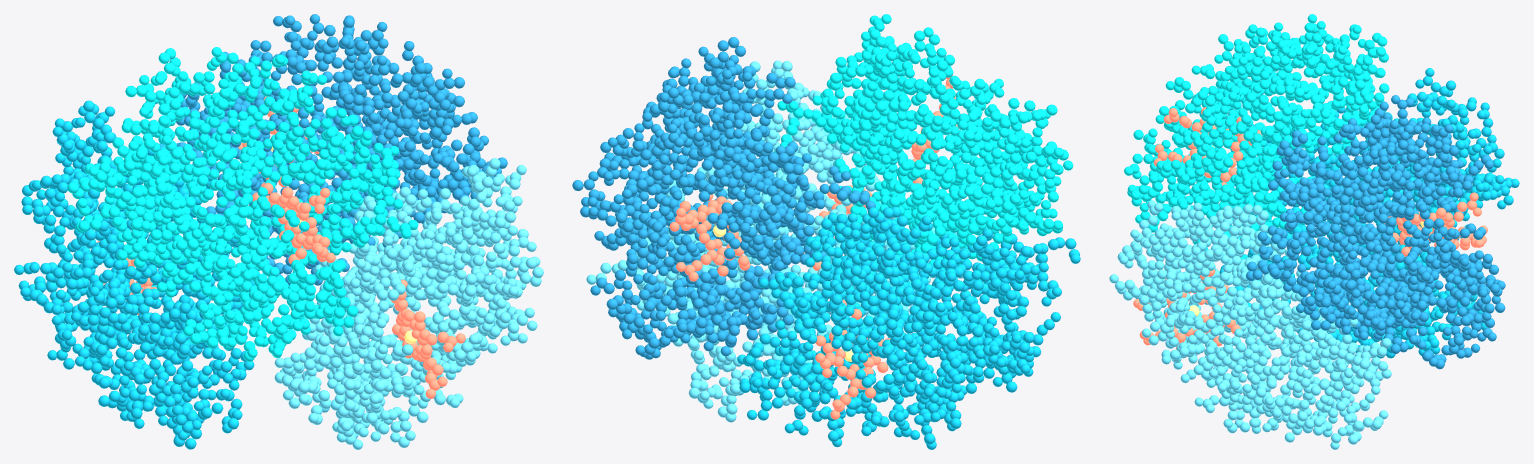
The model's file is haemoglobin.glb.
3 views of the same model, side by side, from view 1: azimuth 30°, elevation 25°; view 2: azimuth 150°, elevation 25°; view 3: azimuth 270°, elevation 25° (orthographic). The views are drawn at different scales.
Size of the model in its own units: 3.4 by 2.94 by 3.04.
